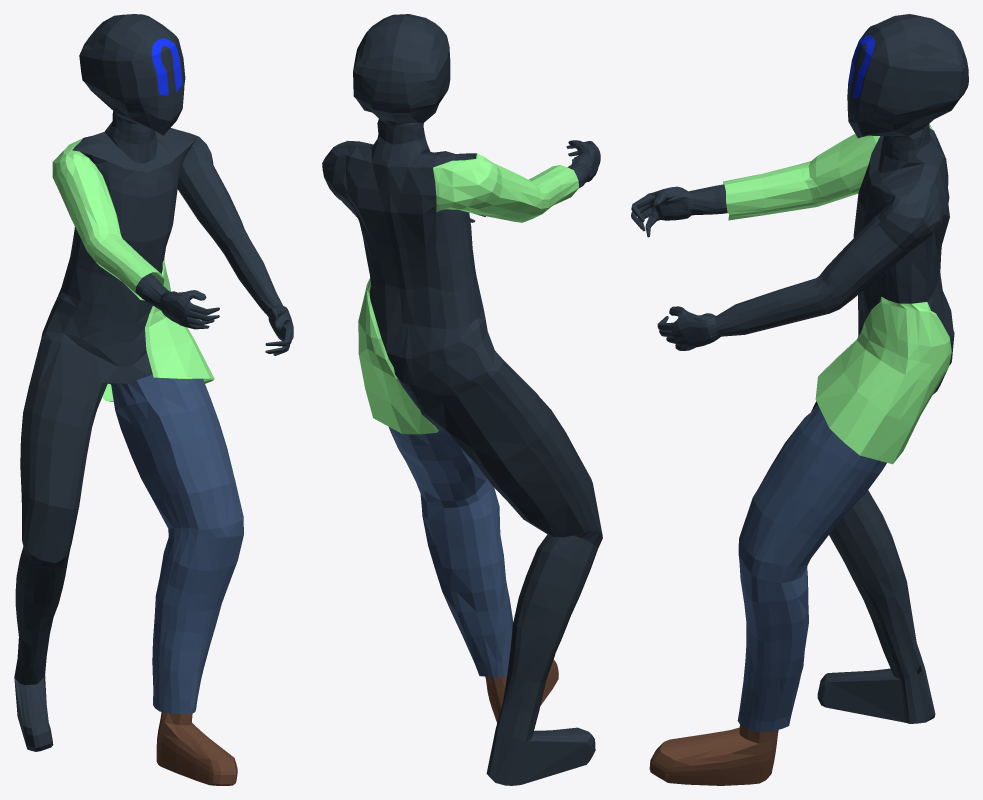
File: Mar_Die_000005.obj
3 views of the same model, side by side, from view 1: azimuth 30°, elevation 25°; view 2: azimuth 150°, elevation 25°; view 3: azimuth 270°, elevation 25° (orthographic). The views are drawn at different scales.
Parts seen in each view (by area): view 1: Cube.000_Cube.001; view 2: Cube.000_Cube.001; view 3: Cube.000_Cube.001.
Part boxes in pixels (x1,y1,x2,y2): Cube.000_Cube.001: [14, 14, 293, 785]; Cube.000_Cube.001: [322, 14, 602, 785]; Cube.000_Cube.001: [631, 14, 968, 785].
Size of the model in its own units: 1.26 by 3.73 by 1.47.
